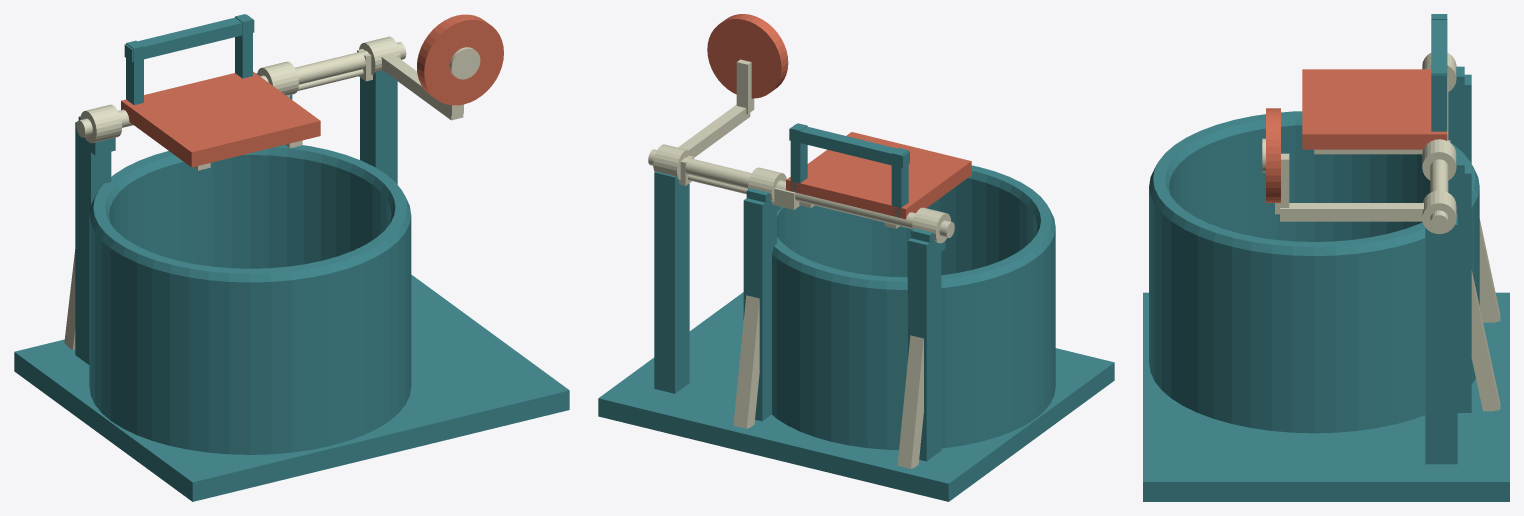
3 views of the same model, side by side, from view 1: azimuth 30°, elevation 25°; view 2: azimuth 150°, elevation 25°; view 3: azimuth 270°, elevation 25° (orthographic). The views are drawn at different scales.
Parts seen in each view (by area): view 1: WholeThickEmptyRoundTank, WholeBroadGroundChassis, WholeFixedSeatBoard, WholeRoundTargetPlate, LeftWholeRearBearingTower, WholeSideTargetSupport, WholeShortSeatBackRail, WholeFixedSeatCrossshaft, WholeTargetForwardCarrier, LeftWholeSeatAxisBearing, LeftWholeSeatBackUpright, RightWholeSeatBackUpright (+4 smaller); view 2: WholeThickEmptyRoundTank, WholeBroadGroundChassis, WholeFixedSeatBoard, WholeSideTargetSupport, LeftWholeRearBearingTower, WholeRoundTargetPlate, RightWholeRearBearingTower, RightWholeRearDiagonal, LeftWholeRearDiagonal, WholeFixedSeatCrossshaft, WholeShortSeatBackRail, WholeTargetForwardCarrier (+6 smaller); view 3: WholeThickEmptyRoundTank, WholeBroadGroundChassis, WholeFixedSeatBoard, WholeSideTargetSupport, RightWholeRearBearingTower, WholeTargetForwardCarrier, RightWholeRearDiagonal, LeftWholeRearBearingTower, WholeRoundTargetPlate, LeftWholeRearDiagonal, WholeShortSeatBackRail, WholeSideTargetPivotBearing (+7 smaller).
Part boxes in pixels (x1=…): WholeThickEmptyRoundTank: x1=89, y1=145, x2=411, y2=454; WholeBroadGroundChassis: x1=14, y1=274, x2=569, y2=501; WholeFixedSeatBoard: x1=121, y1=71, x2=320, y2=167; WholeRoundTargetPlate: x1=417, y1=14, x2=503, y2=105; LeftWholeRearBearingTower: x1=75, y1=122, x2=111, y2=364; WholeSideTargetSupport: x1=360, y1=70, x2=397, y2=184; WholeShortSeatBackRail: x1=124, y1=14, x2=254, y2=62; WholeFixedSeatCrossshaft: x1=76, y1=50, x2=368, y2=137; WholeTargetForwardCarrier: x1=381, y1=54, x2=463, y2=120; LeftWholeSeatAxisBearing: x1=80, y1=104, x2=122, y2=143; LeftWholeSeatBackUpright: x1=126, y1=40, x2=143, y2=104; RightWholeSeatBackUpright: x1=235, y1=14, x2=252, y2=78; WholeThickEmptyRoundTank: x1=772, y1=165, x2=1055, y2=449; WholeBroadGroundChassis: x1=598, y1=292, x2=1114, y2=501; WholeFixedSeatBoard: x1=786, y1=132, x2=971, y2=219; WholeSideTargetSupport: x1=654, y1=171, x2=689, y2=393; LeftWholeRearBearingTower: x1=907, y1=238, x2=941, y2=461; WholeRoundTargetPlate: x1=707, y1=14, x2=788, y2=98; RightWholeRearBearingTower: x1=743, y1=198, x2=776, y2=421; RightWholeRearDiagonal: x1=733, y1=295, x2=759, y2=428; LeftWholeRearDiagonal: x1=897, y1=335, x2=923, y2=468; WholeFixedSeatCrossshaft: x1=683, y1=157, x2=954, y2=237; WholeShortSeatBackRail: x1=789, y1=124, x2=909, y2=167; WholeTargetForwardCarrier: x1=678, y1=104, x2=750, y2=157; WholeThickEmptyRoundTank: x1=1149, y1=111, x2=1479, y2=433; WholeBroadGroundChassis: x1=1143, y1=292, x2=1509, y2=501; WholeFixedSeatBoard: x1=1302, y1=69, x2=1447, y2=149; WholeSideTargetSupport: x1=1425, y1=214, x2=1457, y2=464; RightWholeRearBearingTower: x1=1448, y1=163, x2=1471, y2=412; WholeTargetForwardCarrier: x1=1280, y1=203, x2=1423, y2=221; RightWholeRearDiagonal: x1=1471, y1=270, x2=1500, y2=411; LeftWholeRearBearingTower: x1=1448, y1=74, x2=1471, y2=162; WholeRoundTargetPlate: x1=1266, y1=108, x2=1280, y2=202; LeftWholeRearDiagonal: x1=1479, y1=219, x2=1500, y2=322; WholeShortSeatBackRail: x1=1431, y1=20, x2=1446, y2=88; WholeSideTargetPivotBearing: x1=1422, y1=190, x2=1456, y2=234.
Bounding box in the file's own units: 2.22 × 2.01 × 1.82.
